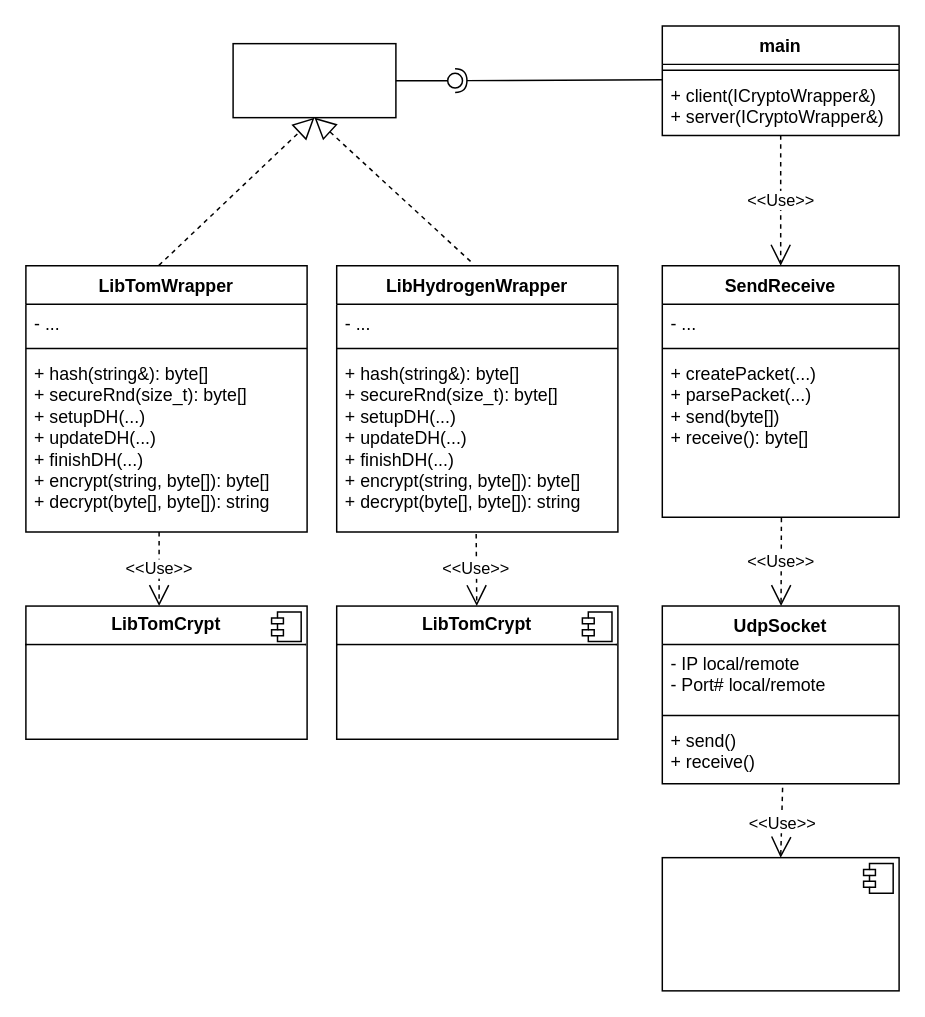
This 925x1017 diagram has some shape labels left out. The shapes that lost their labels are listed below. From the top down, each one's centre as x and y in pixels, then its label:
pixel 314 80: «interface» ICryptoWrapper
pixel 780 923: Posix Sockets
